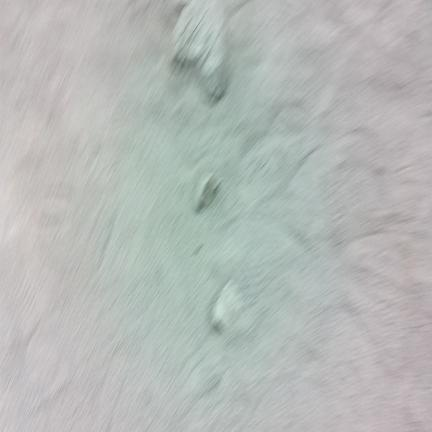Rock: (173, 0, 226, 99), (211, 281, 243, 332), (196, 174, 219, 212)
